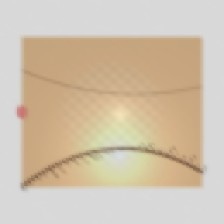corneal_ulcer: (78, 87, 141, 138)
